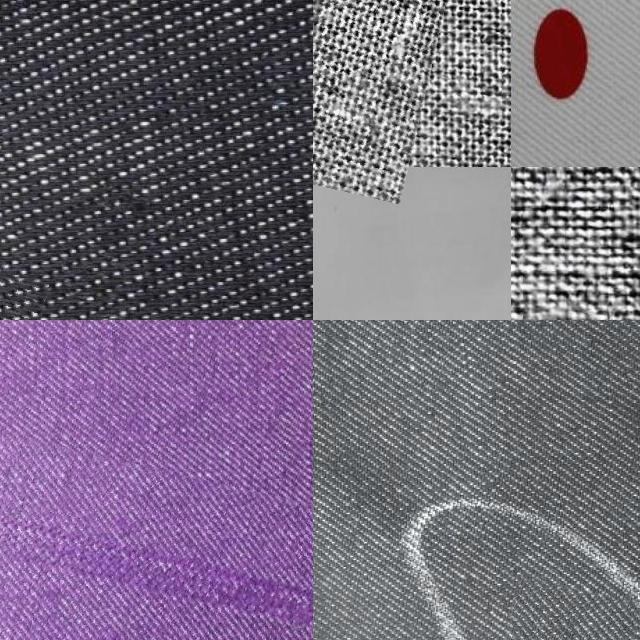Hole: (313, 0, 457, 184)
Thread_other: (0, 439, 313, 640), (497, 580, 637, 640)
